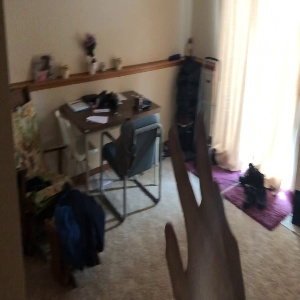hand: (166, 113, 246, 300)
